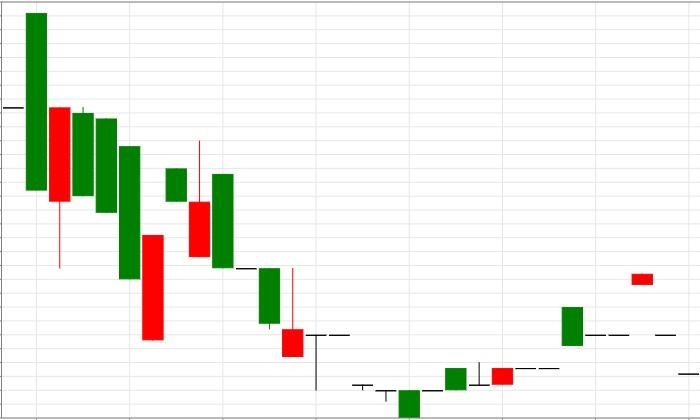inverse_hammer_rise: (166, 139, 303, 357)
